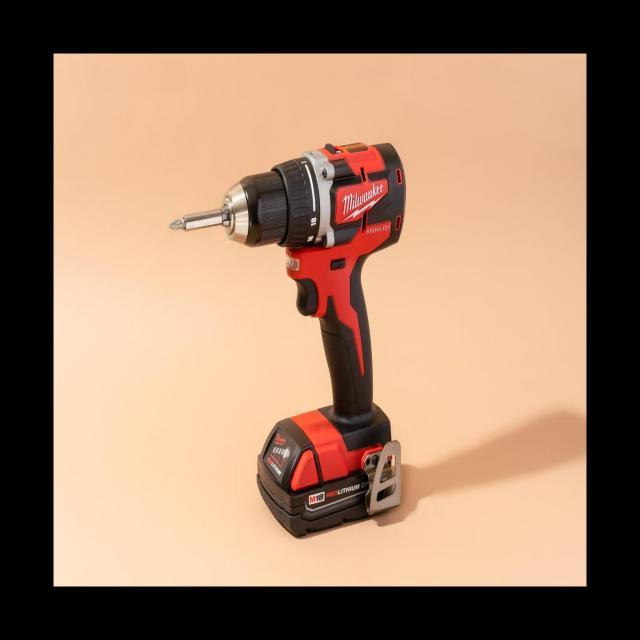drill: (168, 140, 407, 538)
